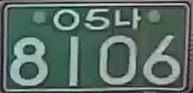0: (94, 35, 141, 86), (52, 8, 81, 33)
1: (59, 34, 89, 87)
5: (83, 7, 112, 32)
6: (139, 34, 182, 87)
8: (10, 35, 52, 87)
나: (112, 6, 145, 33)
